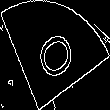O_SW: (30, 24, 80, 86)
